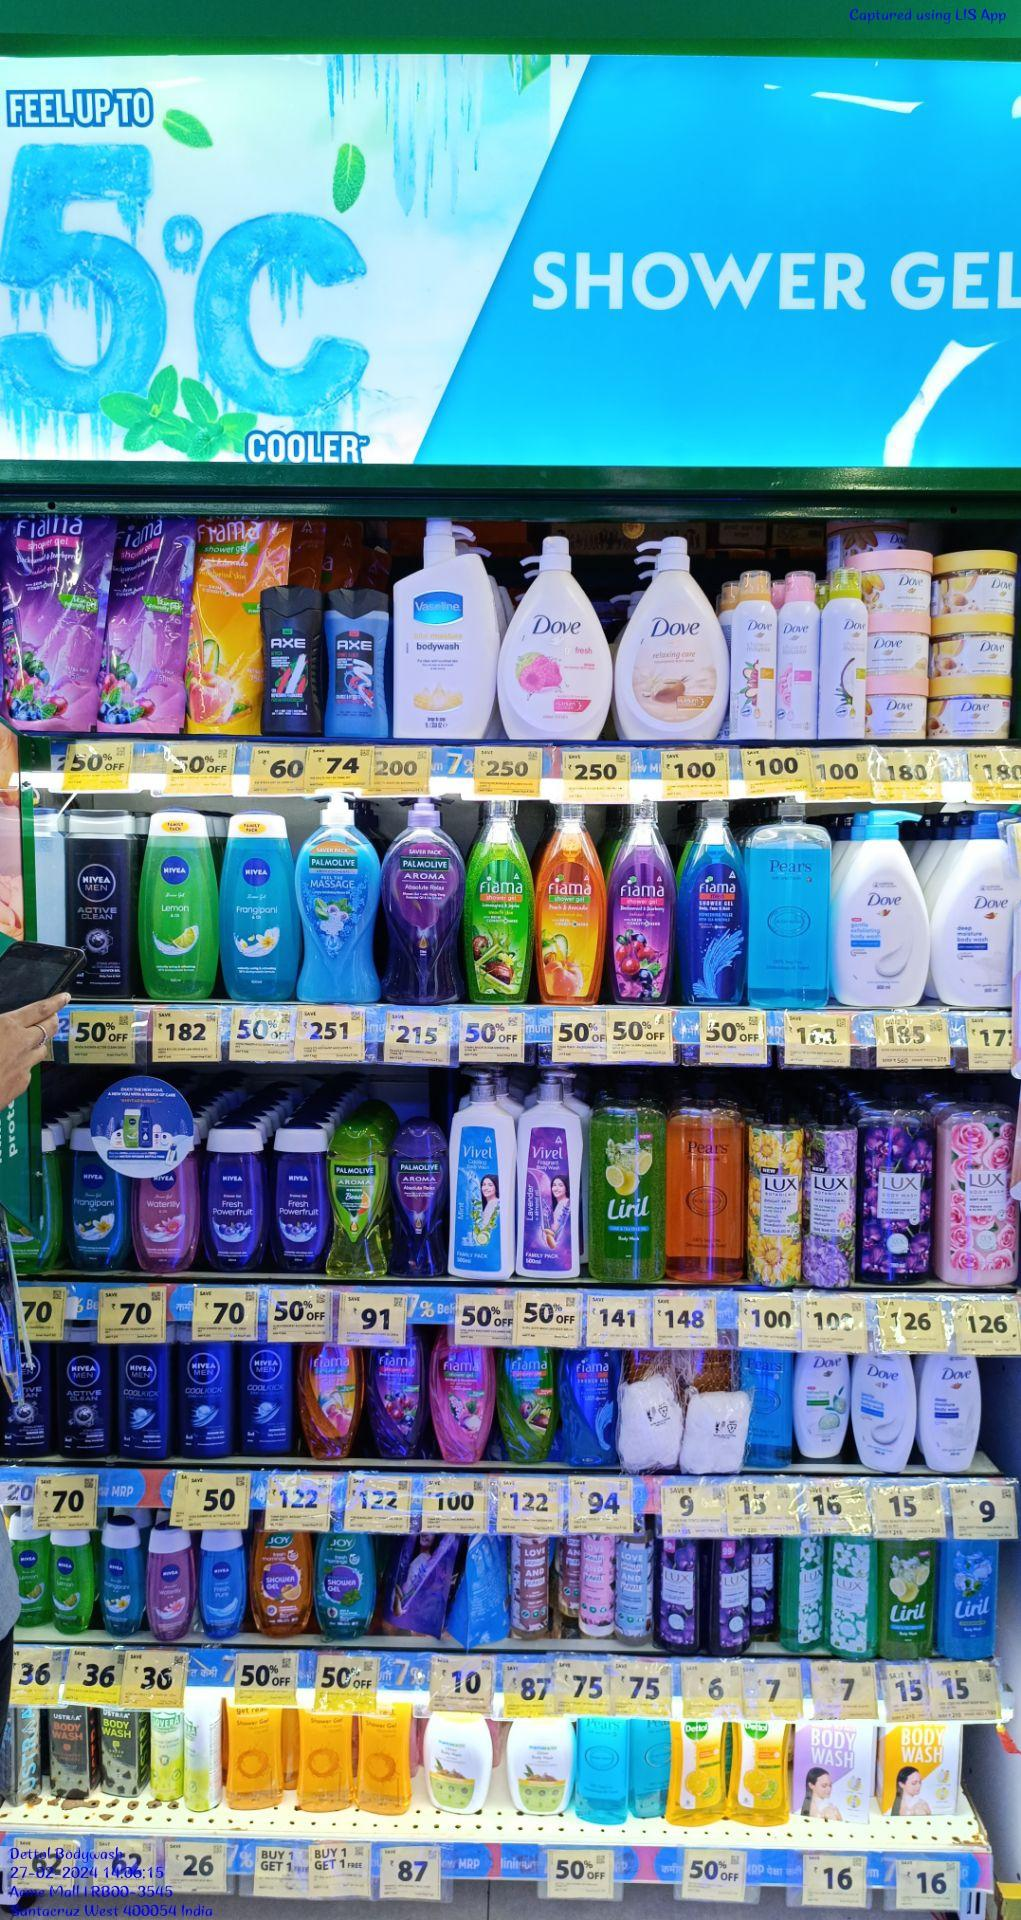Dettol_Bodywash_Refresh: (730, 1721, 787, 1821), (674, 1718, 724, 1827)
Dove_Deep_Moisture_Body_Wash_250ML: (923, 1357, 979, 1474)
Dove_Gentle_Exfoliating_Body_Wash_250ML: (852, 1351, 912, 1470)
Dove_Refreshing_Body_Wash_250ML: (795, 1349, 850, 1460)
Fiama_Shower_Gel_Lemongrass_and_Jojoba_250ML: (502, 1350, 555, 1465)
Fiama_Shower_Gel_Patchouli_and_Macadamia_250ML: (434, 1331, 497, 1464)
Fiama_Shower_Gel_Peach_and_Avocado_250ML: (302, 1341, 362, 1460)
Get_Real_Shower_Gel_Moisturising_Glycerin_300ML: (227, 1691, 281, 1812), (298, 1695, 352, 1813), (358, 1700, 409, 1817)
Joy_Shower_Gel_Mandarin_and_Lemongrass_250ML: (251, 1525, 311, 1637)
Joy_Shower_Gel_Mint_and_Eucalyptus_250ML: (317, 1528, 373, 1642)
Liril_Cooling_Mint_Body_Wash_250ML: (942, 1534, 997, 1662)
Liril_Lime_and_Tea_Tree_Oil_Body_Wash_250ML: (881, 1538, 935, 1661)
Lux_Black_Orchid_Scent_and_Juniper_Oil_Body_Wash_245ML: (655, 1537, 701, 1657), (712, 1538, 753, 1657)
Lux_Body_Wash_Skin_Detox_Freesia_Scent_and_Alove_Vera_245ML: (825, 1537, 875, 1663), (790, 1538, 822, 1657)
Nivea_Shower_Gel_Frangipani_and_Oil_250ML: (222, 808, 293, 1004), (69, 1124, 127, 1270), (100, 1520, 142, 1638)
Nivea_Shower_Gel_Fresh_Powerfruit_250ML: (204, 1123, 263, 1272), (269, 1121, 325, 1276)
Nivea_Shower_Gel_Lemon_and_Oil_250ML: (141, 806, 215, 1003), (8, 1517, 47, 1627), (50, 1530, 90, 1636)
Nivea_Shower_Gel_Waterlily_and_Oil_250ML: (138, 1167, 198, 1275), (147, 1528, 196, 1642)
Palmolive_Aroma_Morning_Tonic_Shower_Gel_250ML: (330, 1121, 382, 1277)
Palmolive_Aroma_Relax_250ML: (390, 1116, 443, 1279)
Pears_Pure_Glycerin_and_Mint_Extracts_Body_Wash_250ML: (578, 1716, 630, 1827), (632, 1717, 668, 1822)
